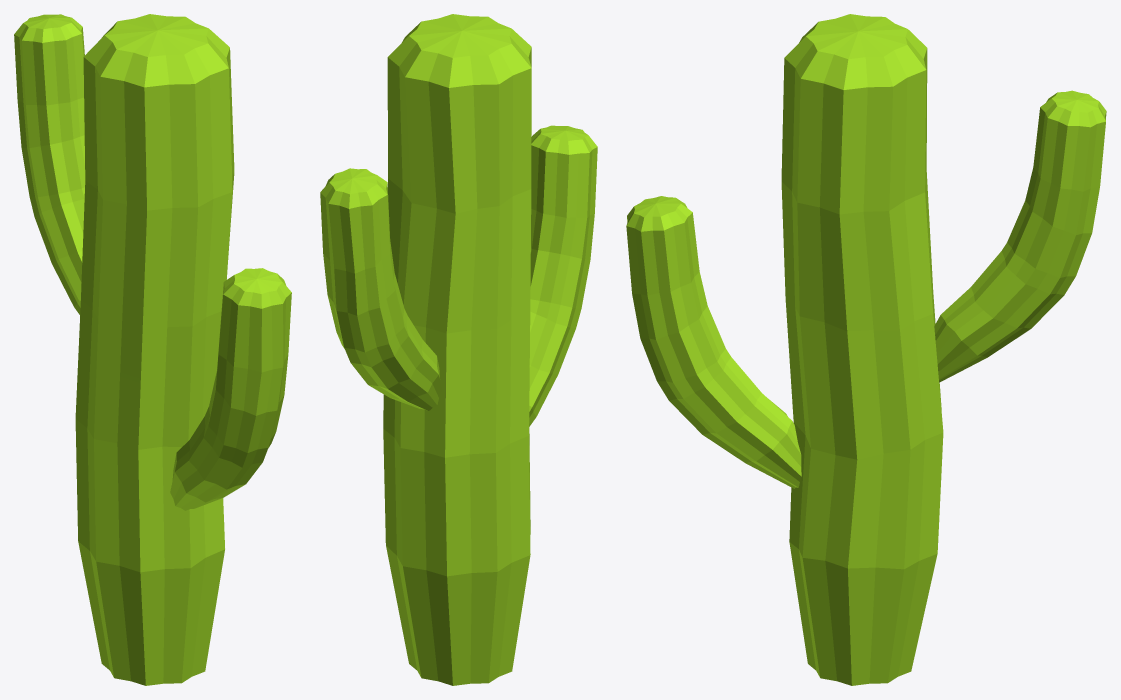
File: cactus-a.glb
3 views of the same model, side by side, from view 1: azimuth 30°, elevation 25°; view 2: azimuth 150°, elevation 25°; view 3: azimuth 270°, elevation 25° (orthographic).
Visible parts, largest first — view 1: Cactus A; view 2: Cactus A; view 3: Cactus A.
Boxes of the visible parts, x1,y1,x2,y2 form: Cactus A: (14,14,291,685); Cactus A: (320,14,597,685); Cactus A: (626,14,1106,685).
Size of the model in its own units: 0.4479 by 2.04 by 1.41.
